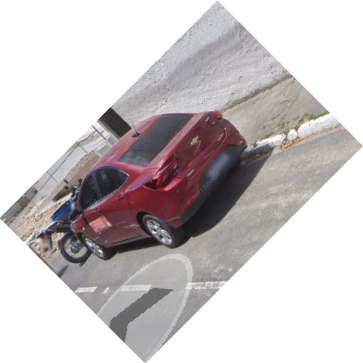car: (70, 110, 254, 262)
